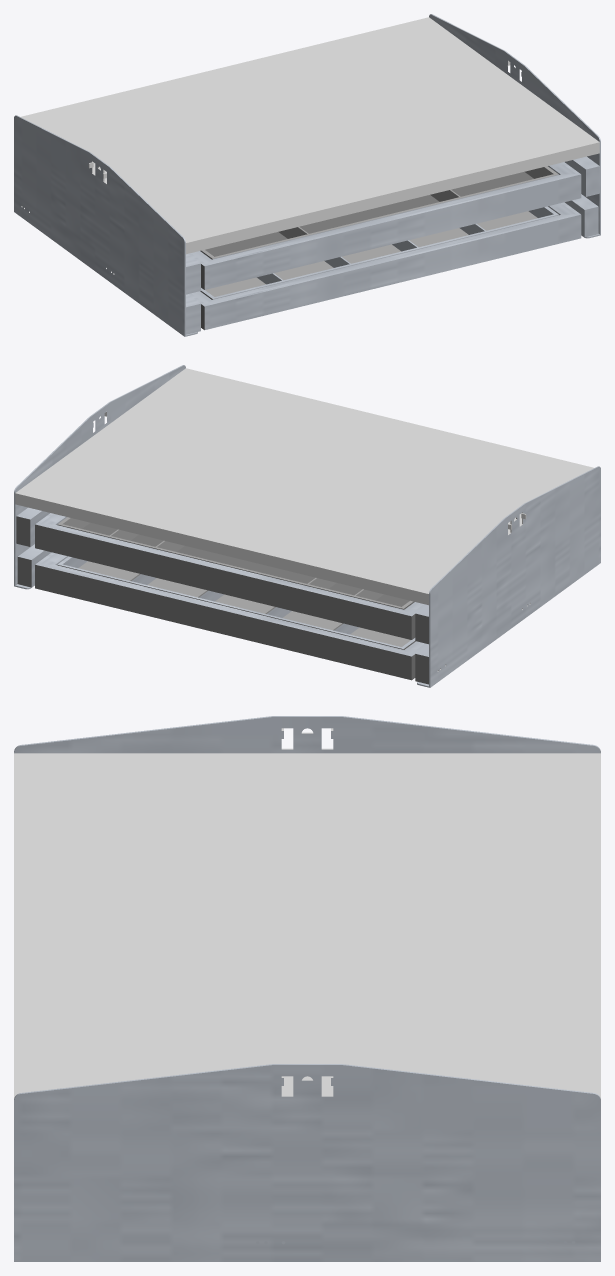
File: JP-drawerDouble.glb
3 renders of one model, top to bottom at view 1: azimuth 30°, elevation 25°; view 2: azimuth 150°, elevation 25°; view 3: azimuth 270°, elevation 25°, orthographic. The views are drawn at different scales.
Parts seen in each view (by area): view 1: Geom3D_, Geom3D (×8); view 2: Geom3D_, Geom3D (×10); view 3: Geom3D_, Geom3D (×2).
Part boxes in pixels (x1,y1,x2,y2): Geom3D_: [21, 17, 599, 254]; Geom3D (×8): [14, 14, 600, 336]; Geom3D_: [15, 368, 593, 605]; Geom3D (×10): [14, 365, 600, 687]; Geom3D_: [14, 753, 600, 1098]; Geom3D (×2): [14, 716, 600, 1261].
Size of the model in its own units: 0.7144 by 0.185 by 0.5.
3 materials, 1 textured.
